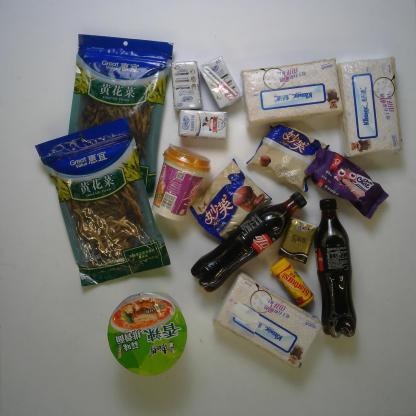Candy: (268, 256, 315, 309)
Dessert: (189, 158, 273, 242), (304, 147, 390, 219), (246, 122, 330, 192)
Dried Food: (34, 115, 171, 289), (67, 31, 174, 195)
Drink: (190, 189, 309, 294), (312, 196, 359, 339)
Instant Drink: (150, 142, 212, 223)
Instant Noodles: (106, 290, 190, 376)
Milk: (198, 55, 243, 110), (171, 59, 203, 111), (178, 109, 228, 140)
Tissue: (213, 269, 324, 370), (240, 57, 344, 127), (334, 55, 404, 159), (277, 216, 319, 265)
